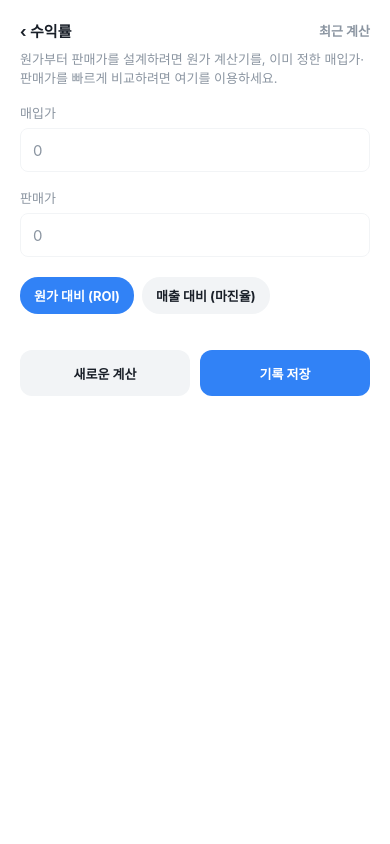
it: ProfitRateScreen › switches the hero to margin rate when that basis chip is selected
The width and height of the screenshot is (390, 844).
Type "8000" into the field with test id "input-cost-price" at (195, 150), box left=20, top=128, right=370, bottom=172
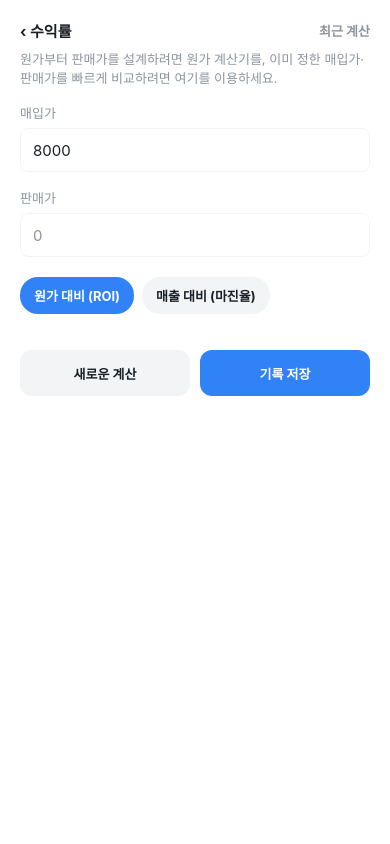
Type "10000" into the field with test id "input-sell-price" at (195, 235), box left=20, top=213, right=370, bottom=257
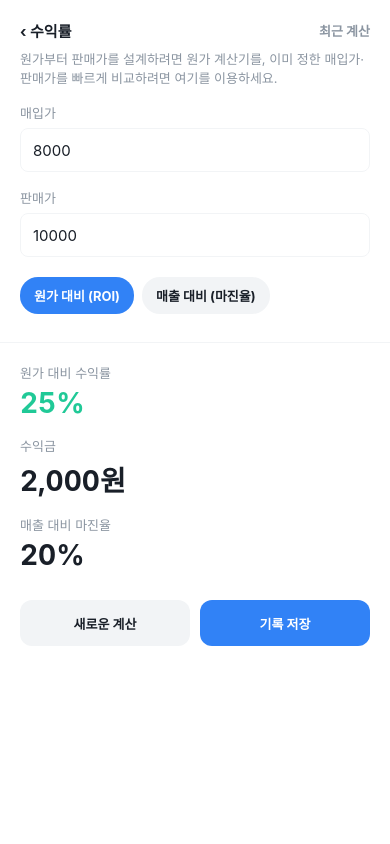
Click the element with test id "basis-margin" at (206, 296), box left=142, top=277, right=270, bottom=314
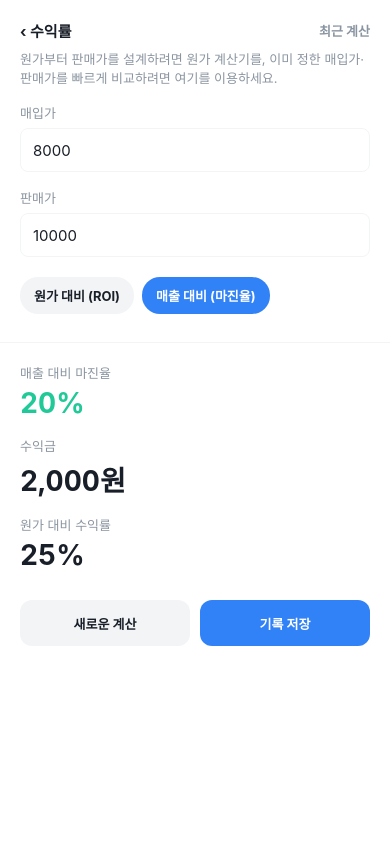
expect the element with test id "profit-rate-hero" reads "매출 대비 마진율 20%": met, box left=20, top=365, right=111, bottom=420
